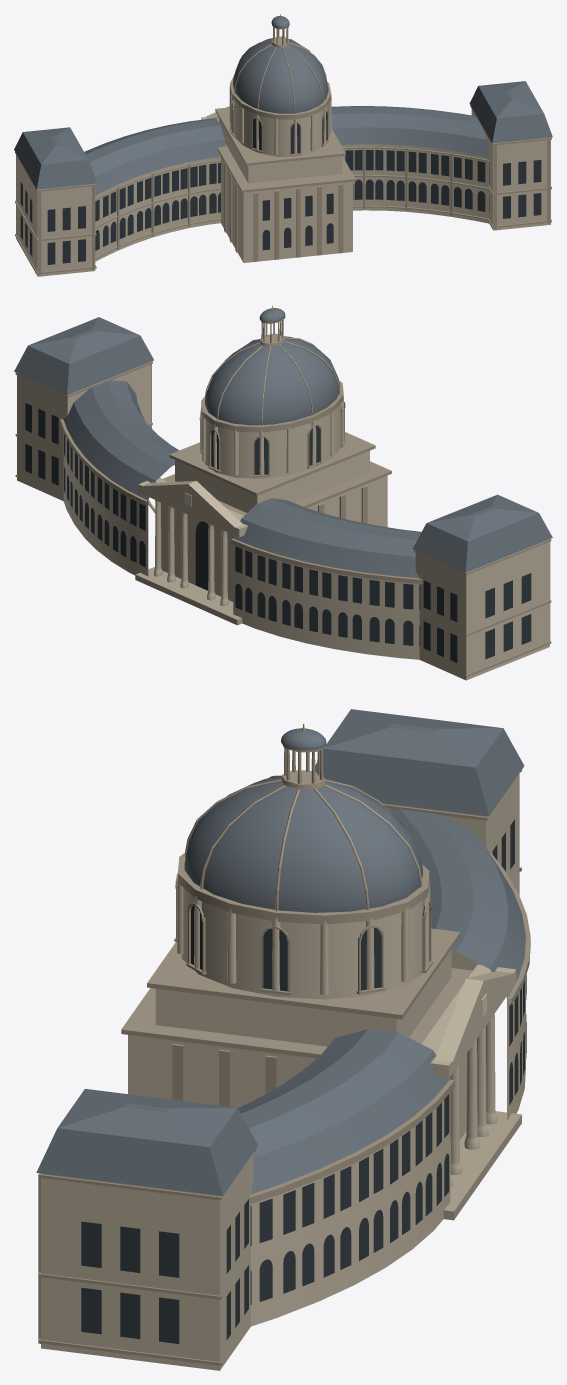
The model's file is paris-institut-de-france-far.glb.
3 views of the same model, one above another, from view 1: azimuth 30°, elevation 25°; view 2: azimuth 150°, elevation 25°; view 3: azimuth 270°, elevation 25° (orthographic). The views are drawn at different scales.
Parts seen in each view (by area): view 1: paris-institut-de-france-0-stone, paris-institut-de-france-0-slate, paris-institut-de-france-0-shade, paris-institut-de-france-0-glass; view 2: paris-institut-de-france-0-stone, paris-institut-de-france-0-slate, paris-institut-de-france-0-glass, paris-institut-de-france-0-shade, paris-institut-de-france-0-steps; view 3: paris-institut-de-france-0-stone, paris-institut-de-france-0-slate, paris-institut-de-france-0-shade, paris-institut-de-france-0-glass, paris-institut-de-france-0-steps.
Boxes of the visible parts, bbox=[...] form: paris-institut-de-france-0-stone: bbox=[16, 86, 550, 276]; paris-institut-de-france-0-slate: bbox=[14, 16, 552, 195]; paris-institut-de-france-0-shade: bbox=[15, 25, 551, 275]; paris-institut-de-france-0-glass: bbox=[20, 102, 541, 264]; paris-institut-de-france-0-stone: bbox=[17, 362, 549, 680]; paris-institut-de-france-0-slate: bbox=[14, 308, 552, 577]; paris-institut-de-france-0-glass: bbox=[25, 403, 531, 662]; paris-institut-de-france-0-shade: bbox=[15, 317, 551, 677]; paris-institut-de-france-0-steps: bbox=[135, 567, 242, 625]; paris-institut-de-france-0-stone: bbox=[41, 773, 525, 1370]; paris-institut-de-france-0-slate: bbox=[36, 709, 525, 1195]; paris-institut-de-france-0-shade: bbox=[38, 744, 530, 1365]; paris-institut-de-france-0-glass: bbox=[81, 819, 526, 1343]; paris-institut-de-france-0-steps: bbox=[443, 1111, 521, 1220].
Bounding box in the file's own units: 132 × 57.8 × 60.95.
